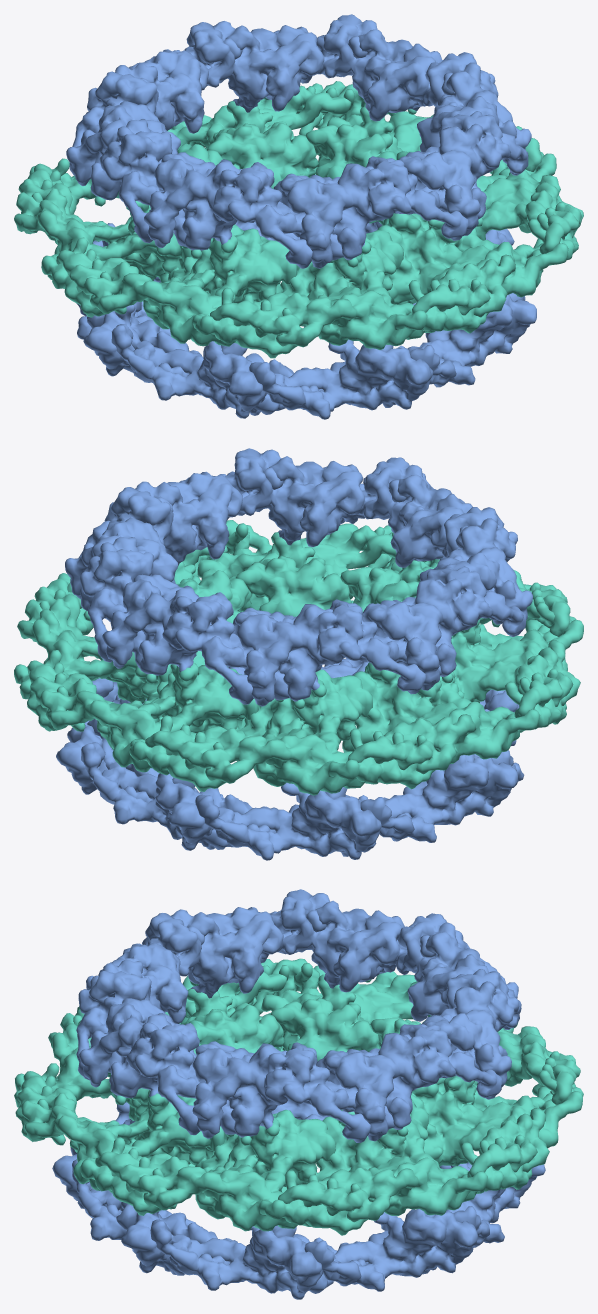
Rendered from nuclear_pore_specimen.glb.
The picture shows the model from 3 angles, top to bottom: view 1: azimuth 30°, elevation 25°; view 2: azimuth 150°, elevation 25°; view 3: azimuth 270°, elevation 25°; orthographic projection.
Parts seen in each view (by area): view 1: GEO-Outer-rings.001, GEO-Outer-rings.002, GEO-Inner-ring.001, GEO-Inner-ring.002, GEO-Outer-rings.003, GEO-Inner-ring.003, GEO-Outer-rings, GEO-Inner-ring.006, GEO-Inner-ring, GEO-Outer-rings.006, GEO-Outer-rings.005, GEO-Outer-rings.007 (+4 smaller); view 2: GEO-Outer-rings.007, GEO-Outer-rings.006, GEO-Outer-rings, GEO-Inner-ring.007, GEO-Inner-ring.006, GEO-Inner-ring, GEO-Inner-ring.003, GEO-Outer-rings.005, GEO-Outer-rings.003, GEO-Inner-ring.001, GEO-Outer-rings.004, GEO-Inner-ring.005 (+4 smaller); view 3: GEO-Outer-rings.004, GEO-Outer-rings.005, GEO-Inner-ring.004, GEO-Outer-rings.003, GEO-Inner-ring.005, GEO-Inner-ring.006, GEO-Inner-ring.003, GEO-Outer-rings, GEO-Inner-ring, GEO-Outer-rings.006, GEO-Outer-rings.001, GEO-Outer-rings.002 (+4 smaller).
Part boxes in pixels (left/top/right/bottom): GEO-Outer-rings.001: left=111, top=152, right=343, bottom=418; GEO-Outer-rings.002: left=221, top=156, right=468, bottom=419; GEO-Inner-ring.001: left=56, top=224, right=334, bottom=358; GEO-Inner-ring.002: left=210, top=230, right=488, bottom=349; GEO-Outer-rings.003: left=366, top=111, right=536, bottom=387; GEO-Inner-ring.003: left=377, top=202, right=578, bottom=330; GEO-Outer-rings: left=66, top=78, right=201, bottom=395; GEO-Inner-ring.006: left=167, top=81, right=363, bottom=188; GEO-Inner-ring: left=14, top=163, right=191, bottom=317; GEO-Outer-rings.006: left=173, top=21, right=367, bottom=240; GEO-Outer-rings.005: left=316, top=14, right=487, bottom=233; GEO-Outer-rings.007: left=69, top=38, right=242, bottom=304; GEO-Outer-rings.007: left=172, top=597, right=441, bottom=860; GEO-Outer-rings.006: left=81, top=550, right=289, bottom=850; GEO-Outer-rings: left=325, top=566, right=526, bottom=842; GEO-Inner-ring.007: left=145, top=669, right=435, bottom=795; GEO-Inner-ring.006: left=27, top=651, right=283, bottom=791; GEO-Inner-ring: left=342, top=620, right=566, bottom=781; GEO-Inner-ring.003: left=197, top=523, right=439, bottom=616; GEO-Outer-rings.005: left=56, top=496, right=177, bottom=802; GEO-Outer-rings.003: left=218, top=448, right=406, bottom=678; GEO-Inner-ring.001: left=451, top=582, right=583, bottom=730; GEO-Outer-rings.004: left=78, top=467, right=283, bottom=704; GEO-Inner-ring.005: left=14, top=573, right=171, bottom=731; GEO-Outer-rings.004: left=150, top=1041, right=394, bottom=1299; GEO-Outer-rings.005: left=272, top=1024, right=502, bottom=1291; GEO-Inner-ring.004: left=95, top=1109, right=367, bottom=1235; GEO-Outer-rings.003: left=72, top=973, right=245, bottom=1281; GEO-Inner-ring.005: left=278, top=1082, right=532, bottom=1222; GEO-Inner-ring.006: left=411, top=1051, right=583, bottom=1191; GEO-Inner-ring.003: left=17, top=1071, right=233, bottom=1215; GEO-Outer-rings: left=269, top=889, right=434, bottom=1120; GEO-Inner-ring: left=235, top=963, right=428, bottom=1061; GEO-Outer-rings.006: left=403, top=969, right=545, bottom=1247; GEO-Outer-rings.001: left=123, top=907, right=326, bottom=998; GEO-Outer-rings.002: left=52, top=926, right=204, bottom=1216.
Bounding box in the file's own units: 14.55 × 7.04 × 14.55.
